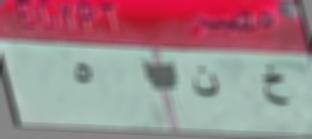5: (56, 58, 101, 94)
khaa: (252, 60, 295, 116)
noon: (185, 63, 226, 108)
